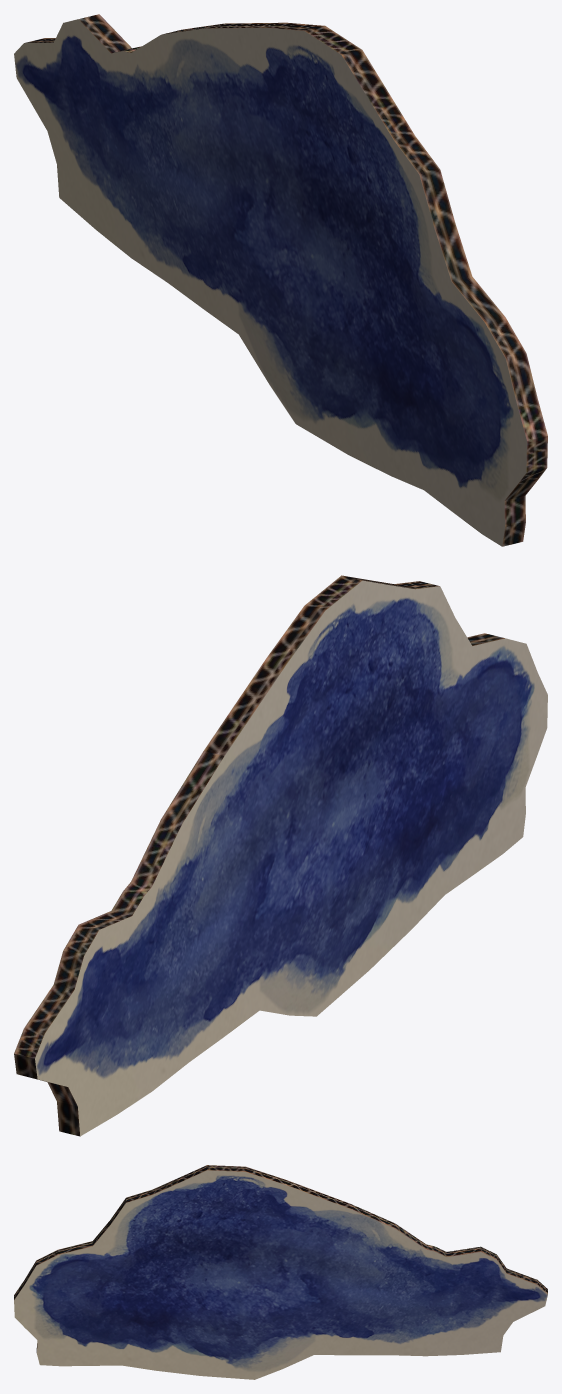
File: Cloud-02.fbx
3 renders of one model, top to bottom at view 1: azimuth 30°, elevation 25°; view 2: azimuth 150°, elevation 25°; view 3: azimuth 270°, elevation 25°, orthographic. The views are drawn at different scales.
Visible parts, largest first — view 1: Cloud-02; view 2: Cloud-02; view 3: Cloud-02.
Part boxes in pixels (left/top/right/bottom): Cloud-02: left=14, top=14, right=547, bottom=546; Cloud-02: left=14, top=575, right=547, bottom=1136; Cloud-02: left=14, top=1165, right=547, bottom=1379.
Size of the model in its own units: 12.83 by 235 by 544.
